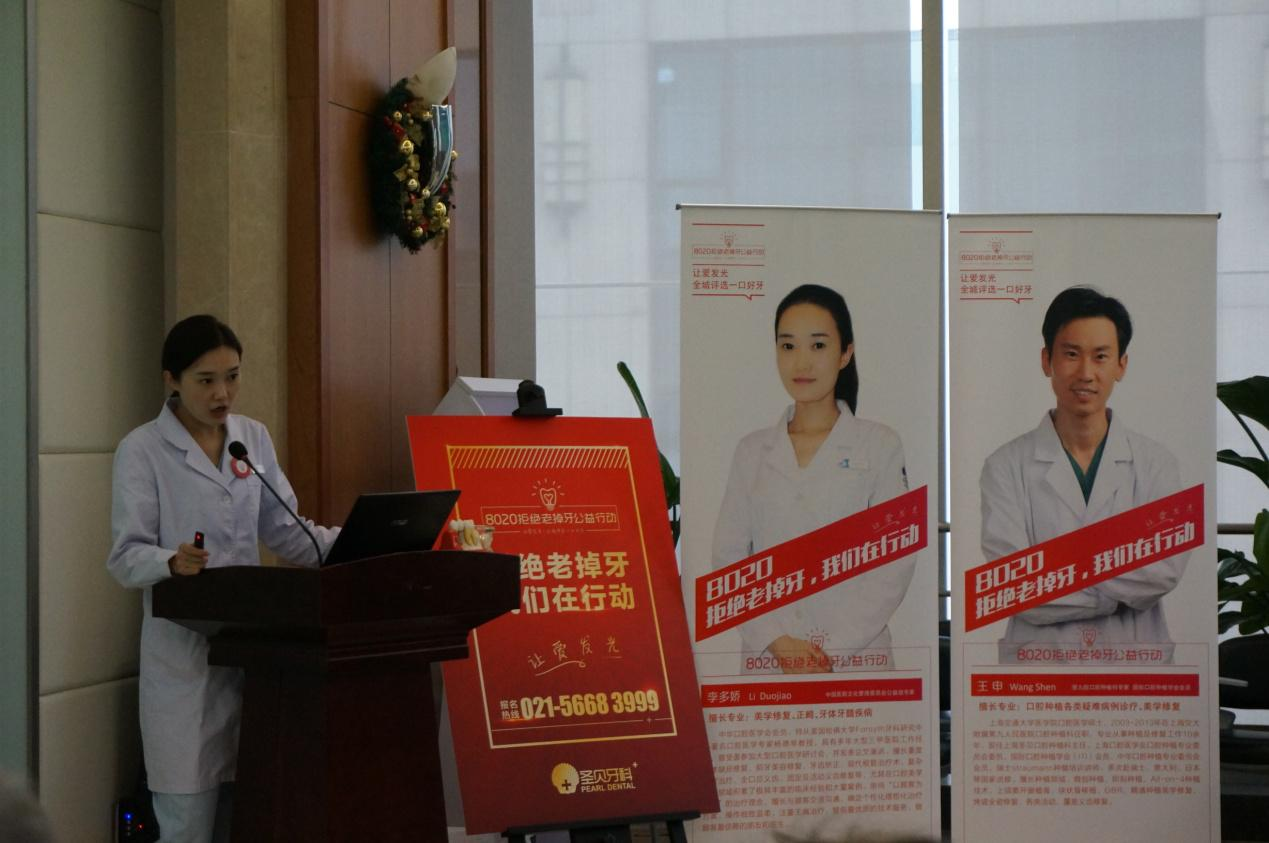other: (113, 308, 381, 821)
